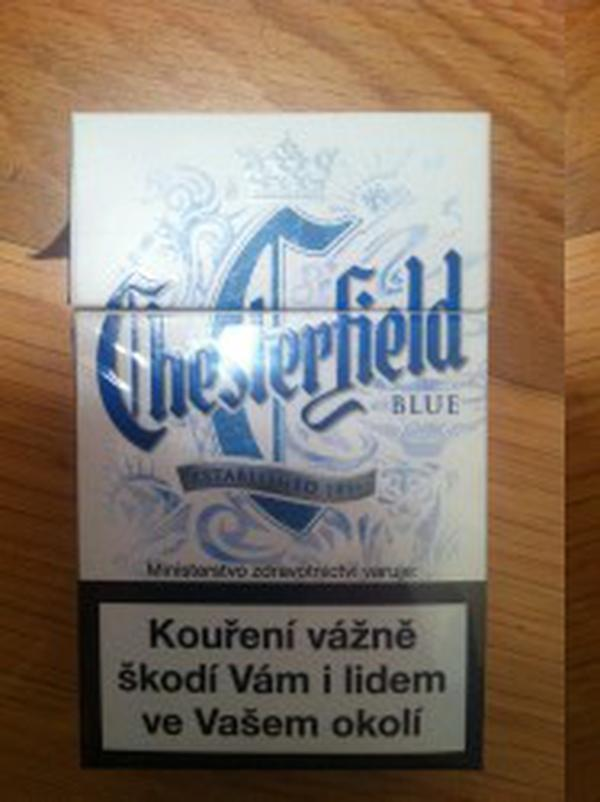chesterfield_blue: (74, 112, 481, 770)
